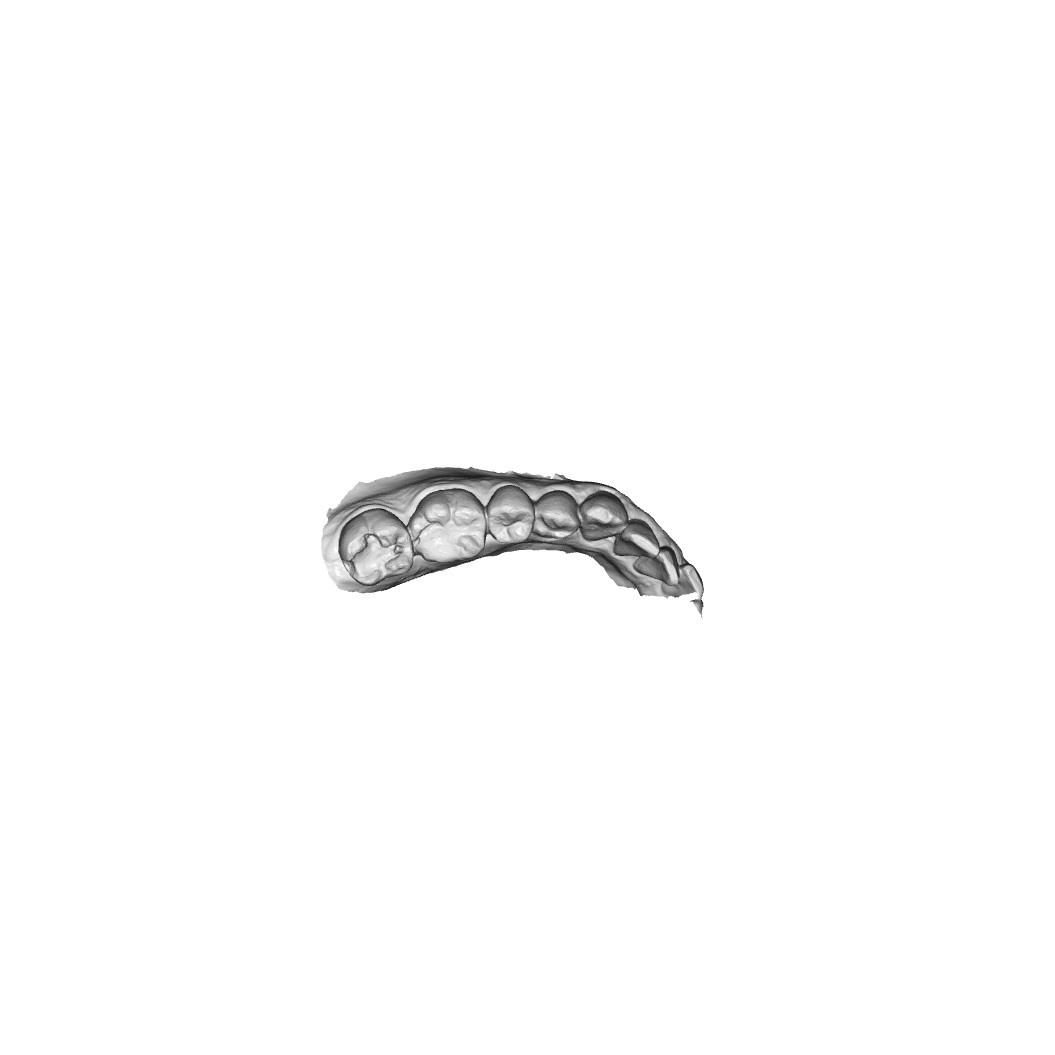canine: (576, 491, 628, 546)
incisor: (630, 547, 686, 587), (619, 523, 661, 568)
molar: (341, 507, 412, 586), (416, 494, 486, 568)
premolar: (489, 483, 533, 545), (532, 490, 579, 541)
